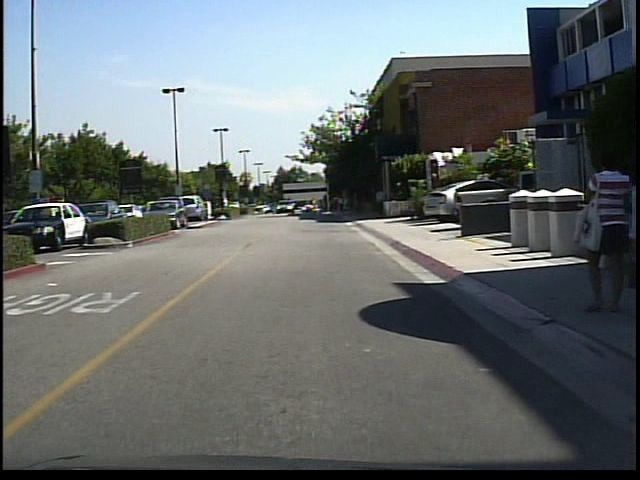person: (579, 141, 628, 316), (216, 191, 232, 219), (310, 196, 325, 222)
